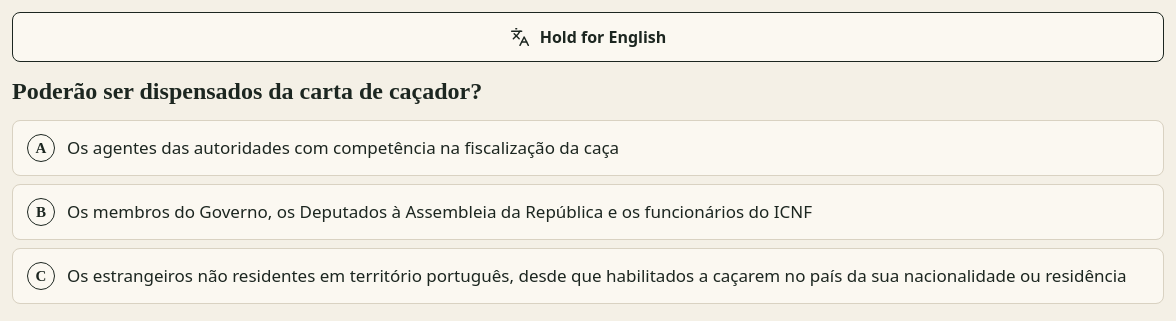
Test: QuestionCard › the hold button › returns the Portuguese on pointercancel, and blocks the long-press menu
The width and height of the screenshot is (1176, 321).
Press the mouse on the button "Hold for English": {"x": 588, "y": 37} [12,12,1164,62]
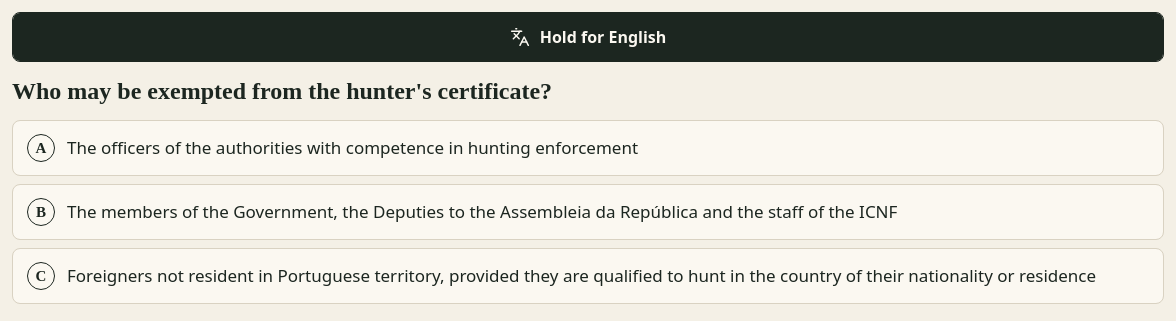
Check: the text "Who may be exempted from the hunter's certificate?" is shown, box [12,78,552,104]
Right-click the button "Hold for English": {"x": 588, "y": 37} [12,12,1164,62]
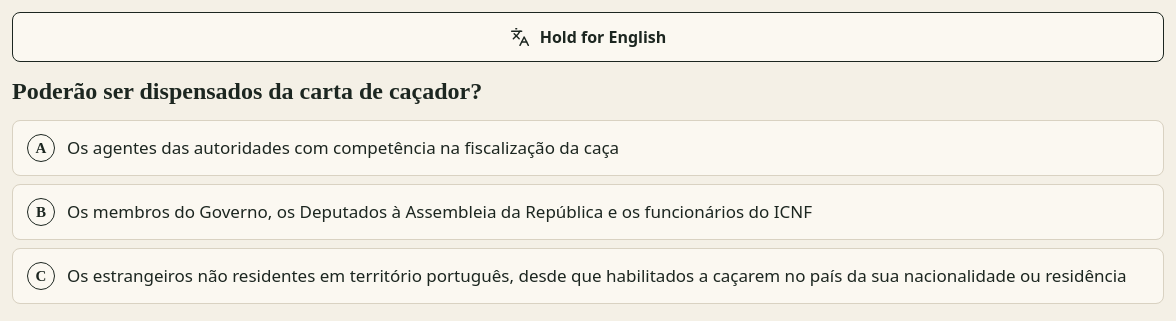
Check: the text "Poderão ser dispensados da carta de caçador?" is shown, box [12,78,482,104]
